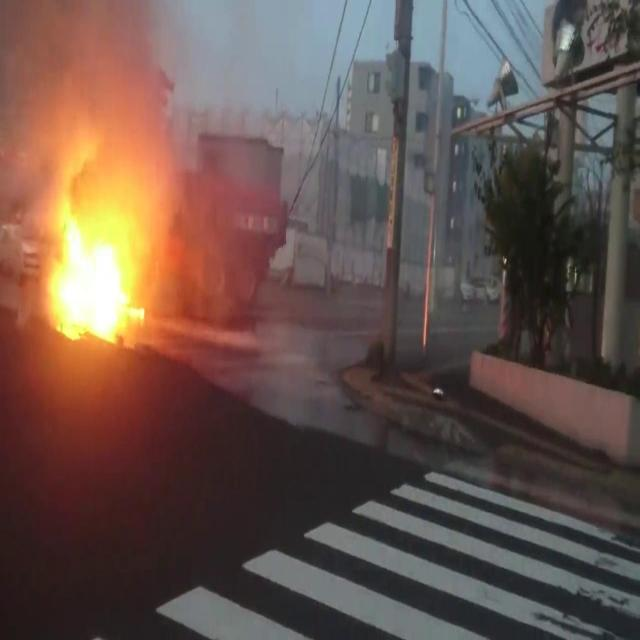Fire: (44, 218, 148, 348)
